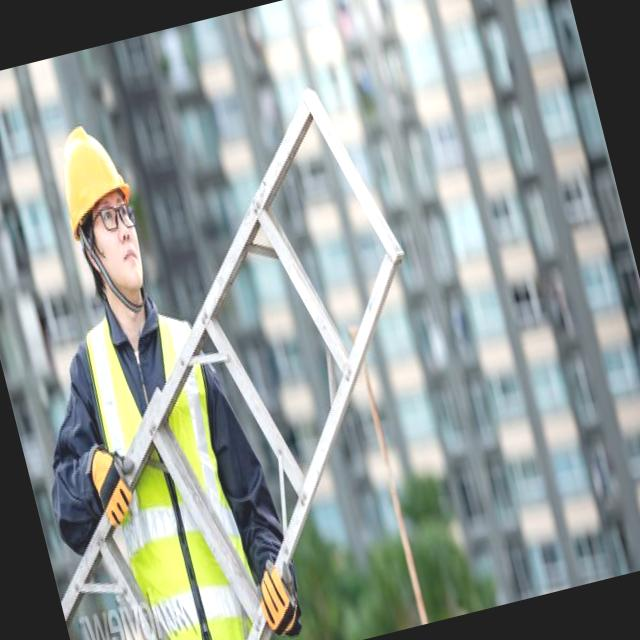goggles: (70, 187, 144, 258)
helmet: (46, 118, 137, 242)
vest: (58, 294, 287, 640)
